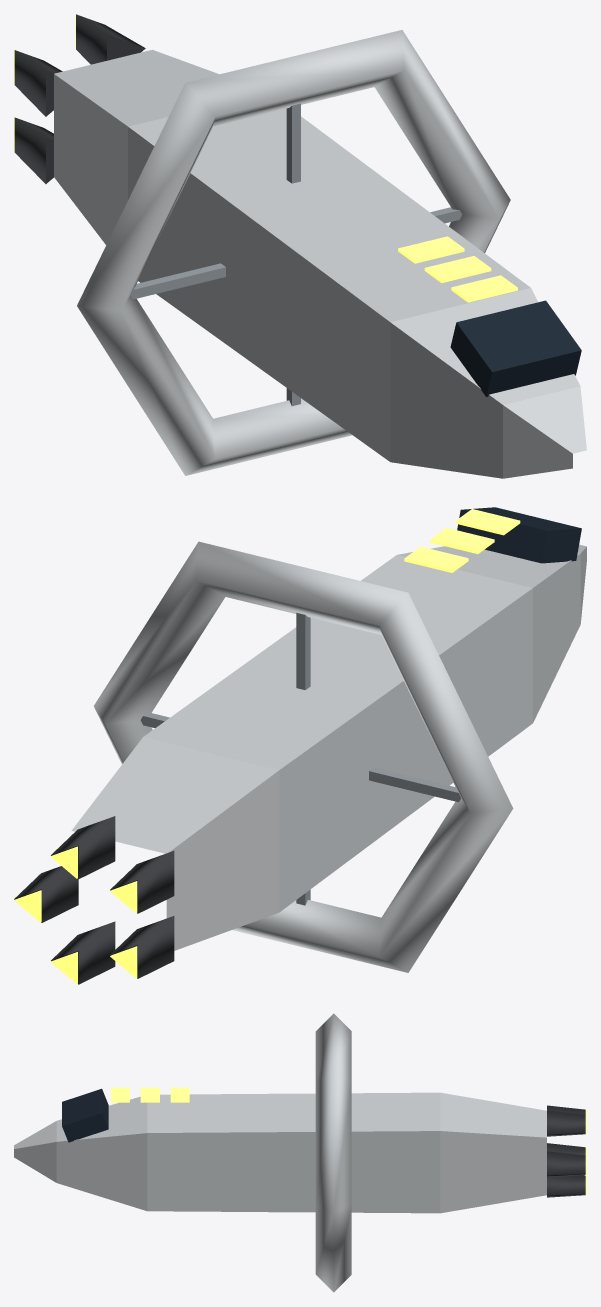
The model's file is space_ship_colony_transport_mk2_lod2.glb.
3 views of the same model, one above another, from view 1: azimuth 30°, elevation 25°; view 2: azimuth 150°, elevation 25°; view 3: azimuth 270°, elevation 25° (orthographic). The views are drawn at different scales.
Visible parts, largest first — view 1: body, habitat_ring_0, engine_1, engine_2, engine_3; view 2: body, habitat_ring_0, engine_1, engine_2, engine_3, engine_4, engine_0; view 3: body, habitat_ring_0, engine_0, engine_1, engine_4.
Boxes of the visible parts, bbox=[...] form: body: bbox=[54, 49, 586, 478]; habitat_ring_0: bbox=[77, 30, 510, 475]; engine_1: bbox=[75, 14, 145, 64]; engine_2: bbox=[14, 50, 62, 116]; engine_3: bbox=[14, 117, 53, 183]; body: bbox=[71, 507, 586, 950]; habitat_ring_0: bbox=[94, 541, 513, 972]; engine_1: bbox=[50, 816, 115, 878]; engine_2: bbox=[110, 851, 174, 913]; engine_3: bbox=[110, 916, 174, 978]; engine_4: bbox=[51, 921, 115, 984]; engine_0: bbox=[14, 866, 78, 922]; body: bbox=[14, 1087, 546, 1213]; habitat_ring_0: bbox=[315, 1013, 351, 1292]; engine_0: bbox=[547, 1151, 586, 1177]; engine_1: bbox=[547, 1110, 586, 1136]; engine_4: bbox=[547, 1175, 586, 1197].
Bounding box in the file's own units: 23.54 × 20.39 × 48.16.
